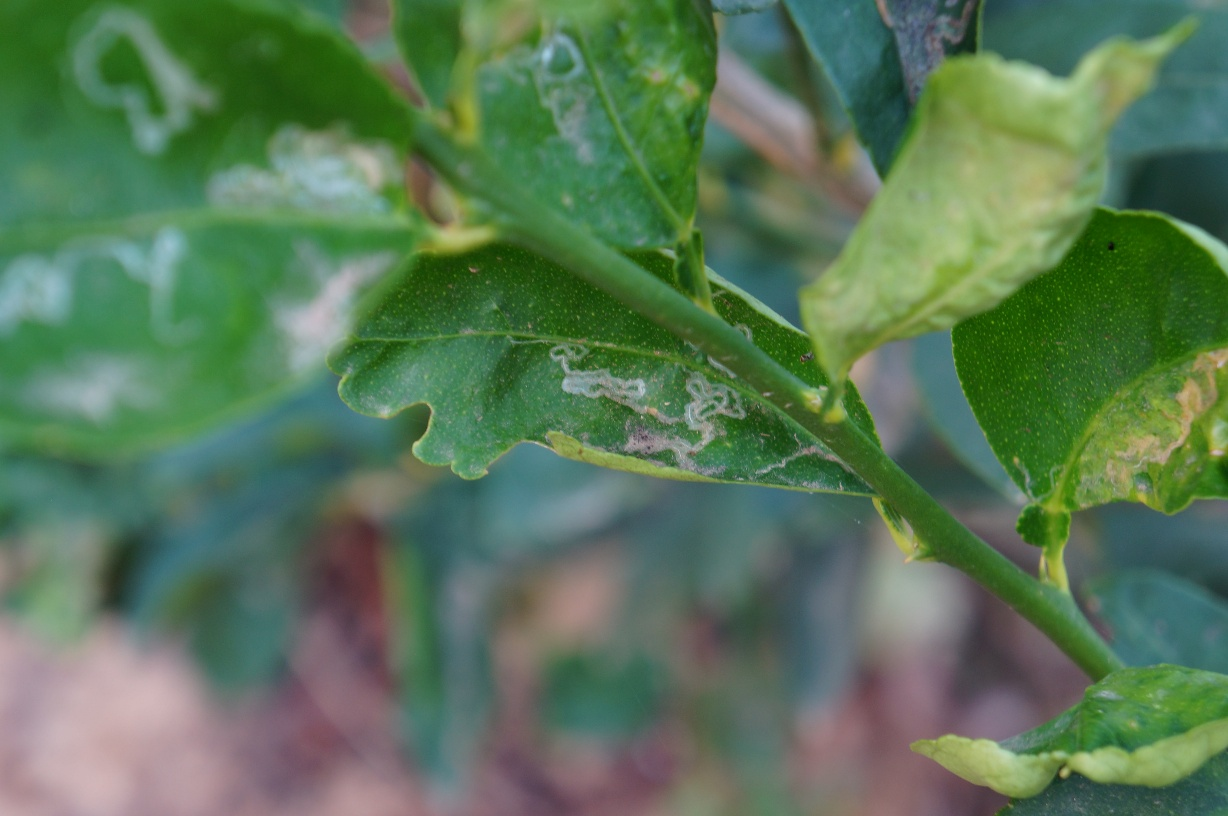damage: (524, 322, 875, 497)
